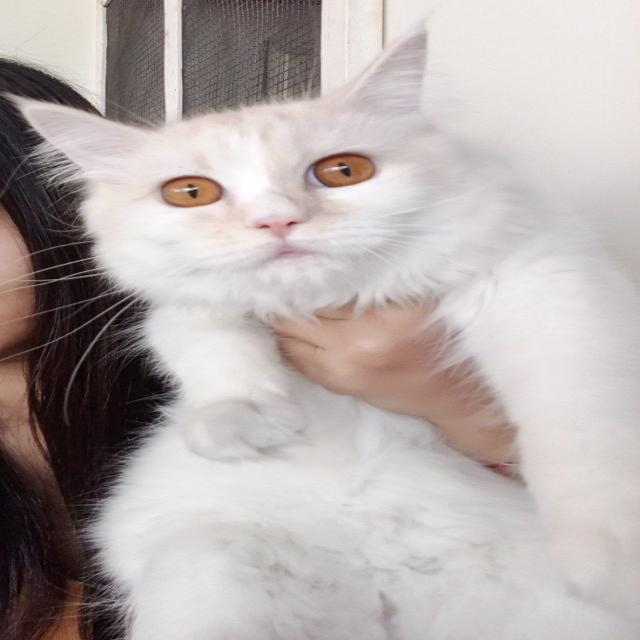da khoe manh: (158, 437, 454, 639)
